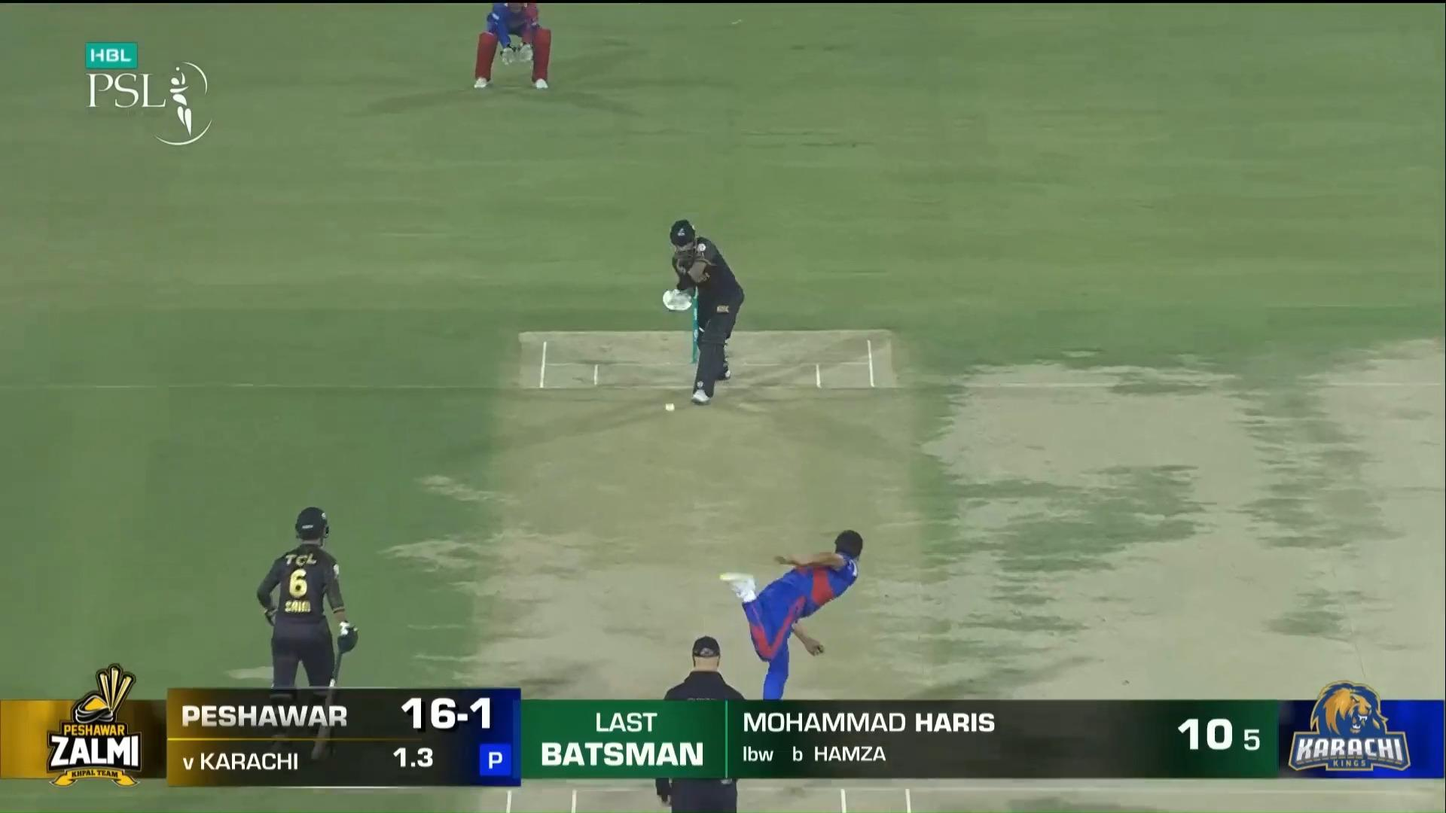batsman: (663, 218, 745, 405)
